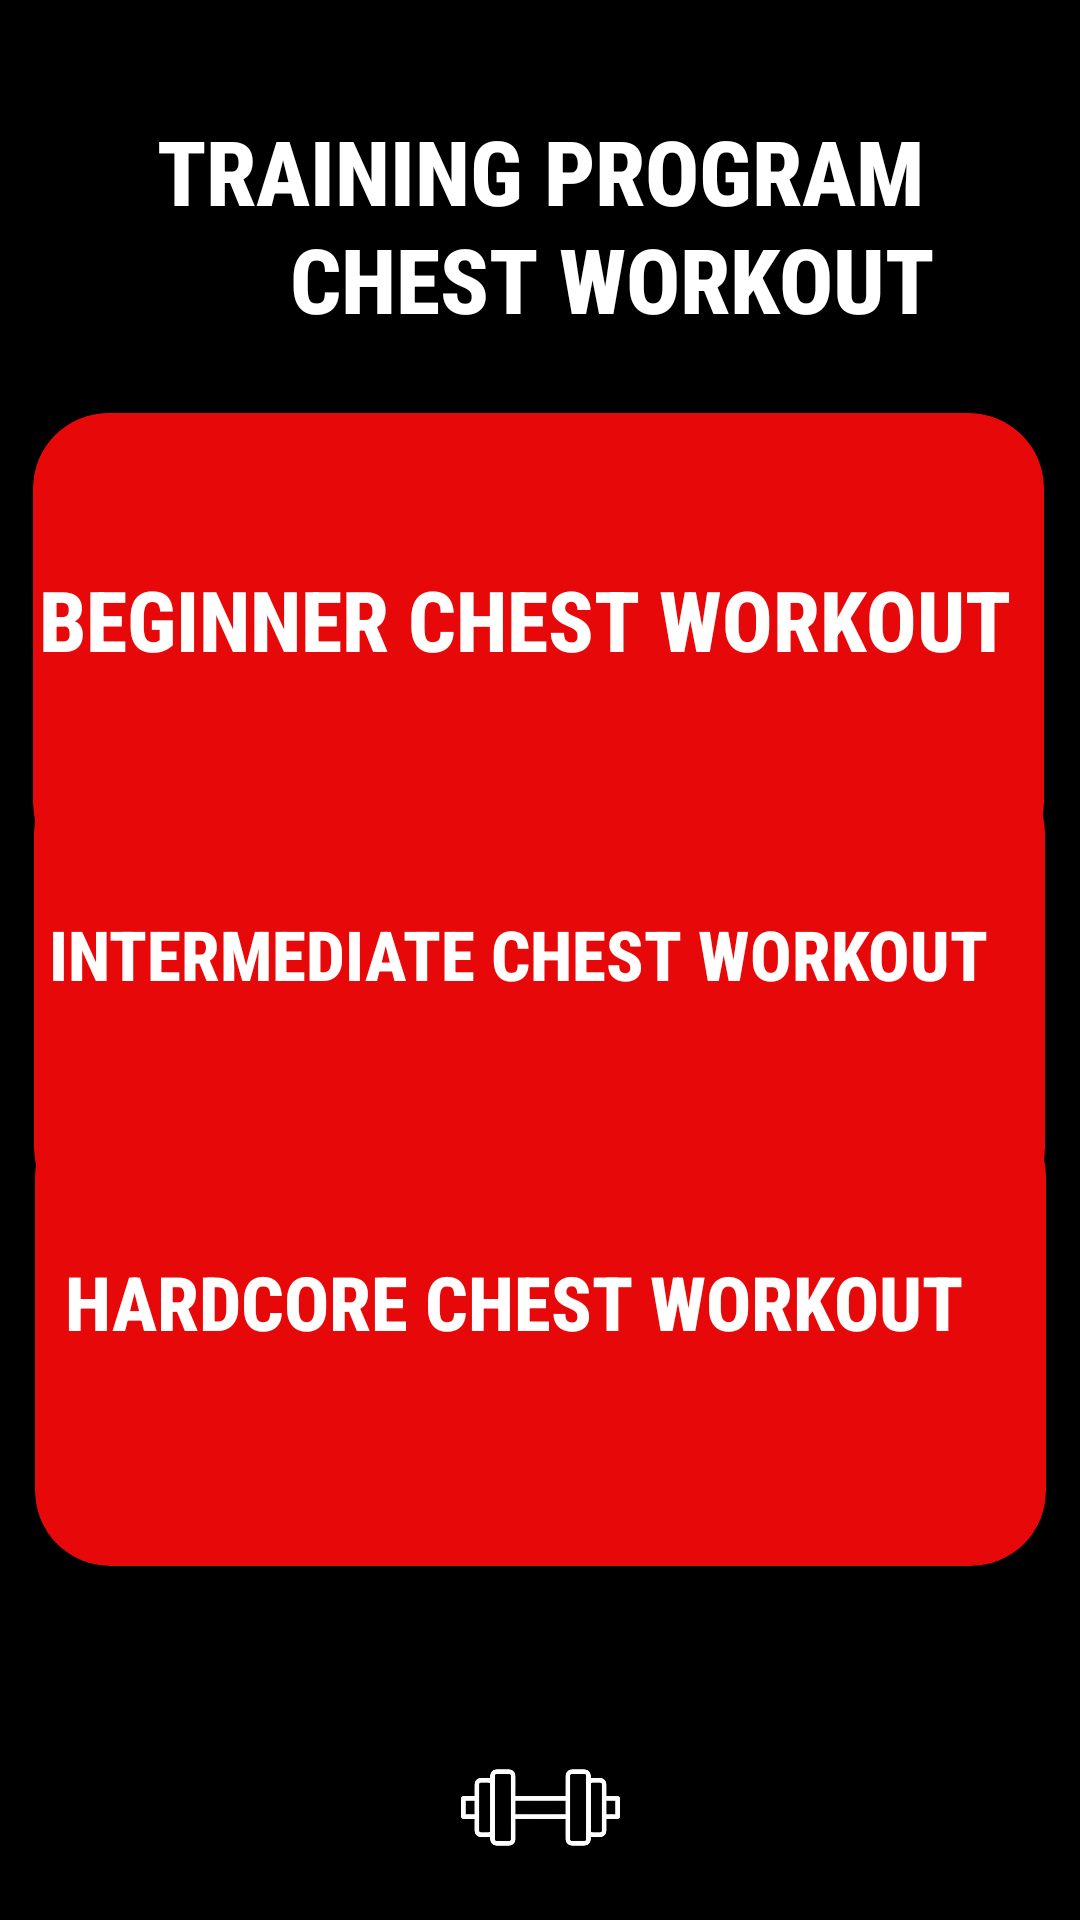

Screen size 1080*1920. Icon name, then its box in pixels as (x1=x1, y1=y1, x2=x2, y2=y2):
imgdumbell: (x1=461, y1=1769, x2=620, y2=1846)
